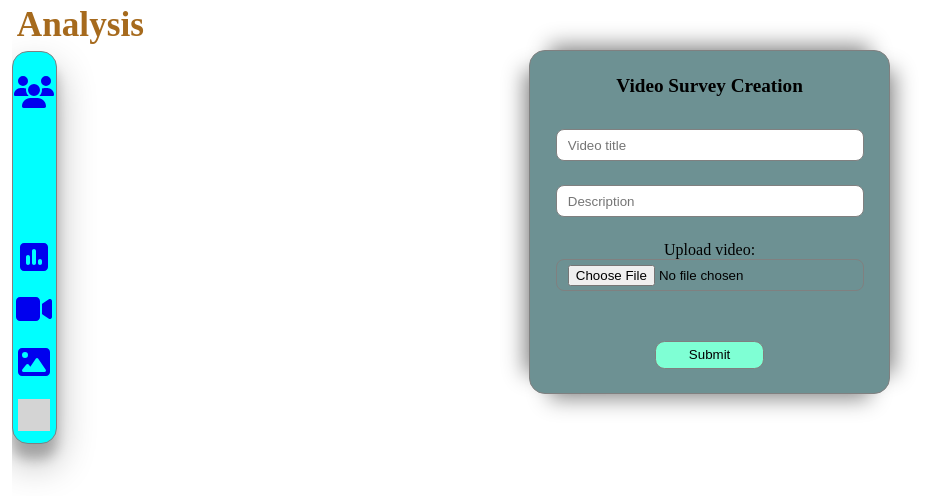
Test: Testing submit button
The width and height of the screenshot is (926, 496).
Click the button with test id "video-submit" at (710,355), box [655,341,764,369]
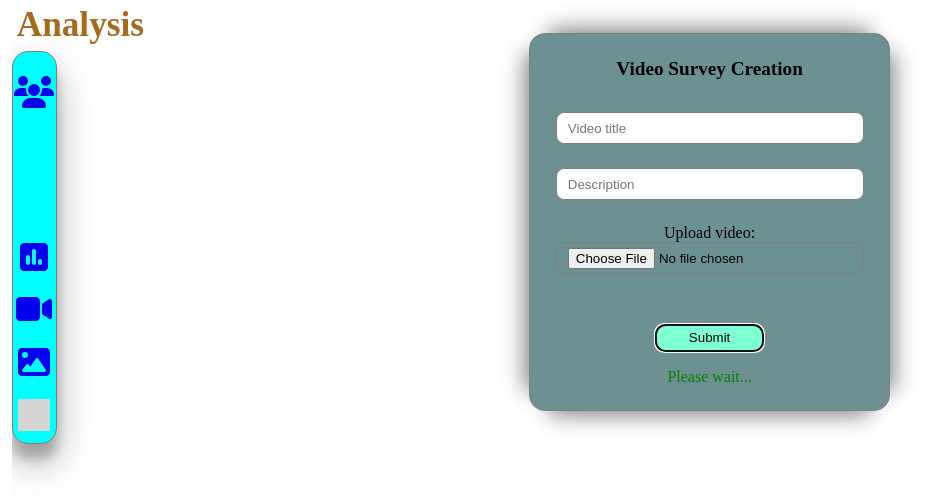
expect the text "Please wait..." is shown: met, box [667,368,752,384]
